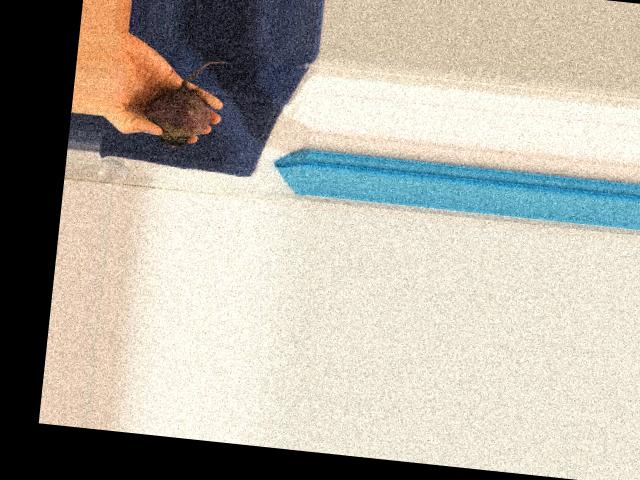beet: (142, 53, 230, 152)
